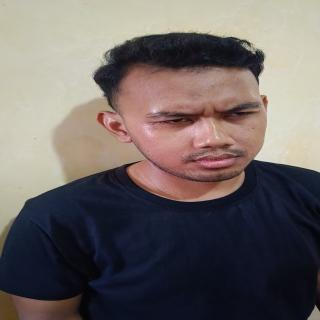Marah: (105, 49, 279, 186)
